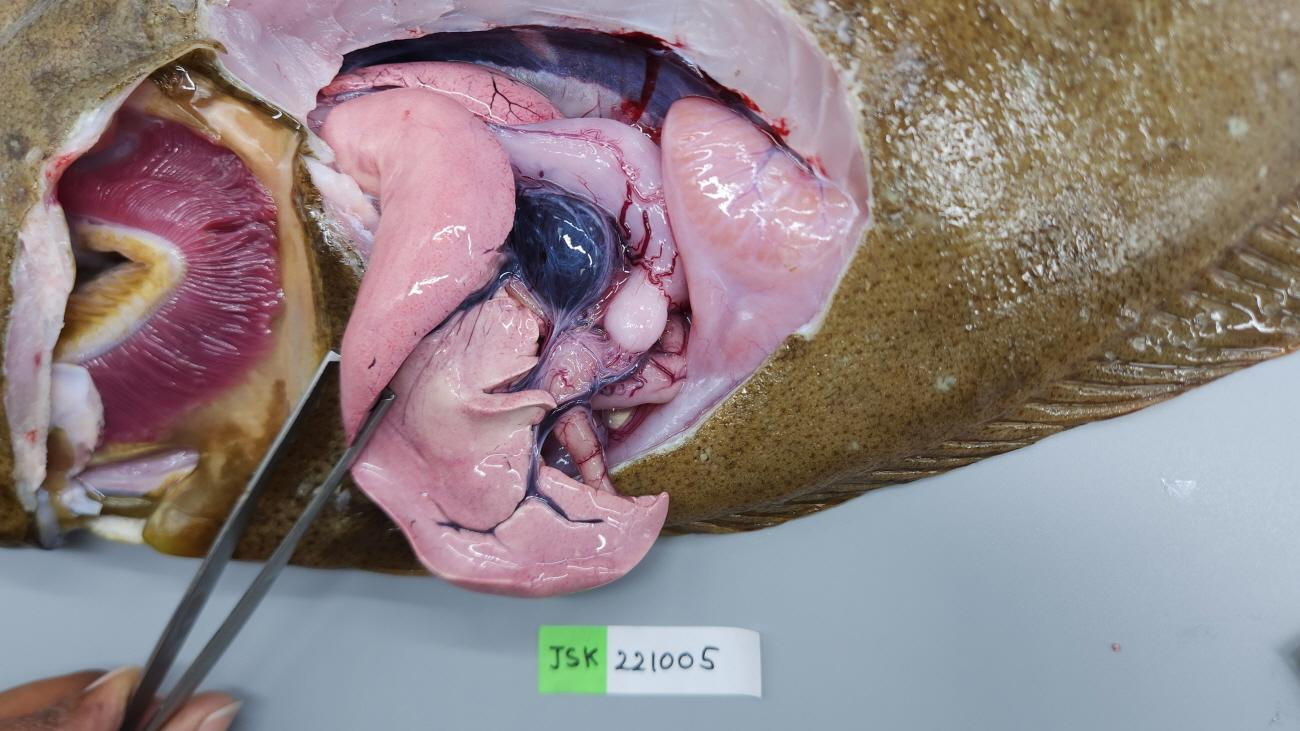POINN: (591, 352, 687, 410)
POSPN: (502, 177, 620, 313)
